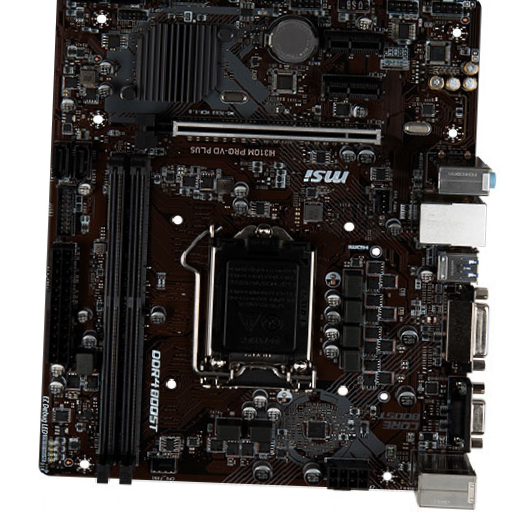CPU: (202, 226, 316, 389)
GPU: (133, 113, 383, 147)
MOTHERBOARD: (39, 1, 483, 489)
RAM: (98, 153, 155, 487)
